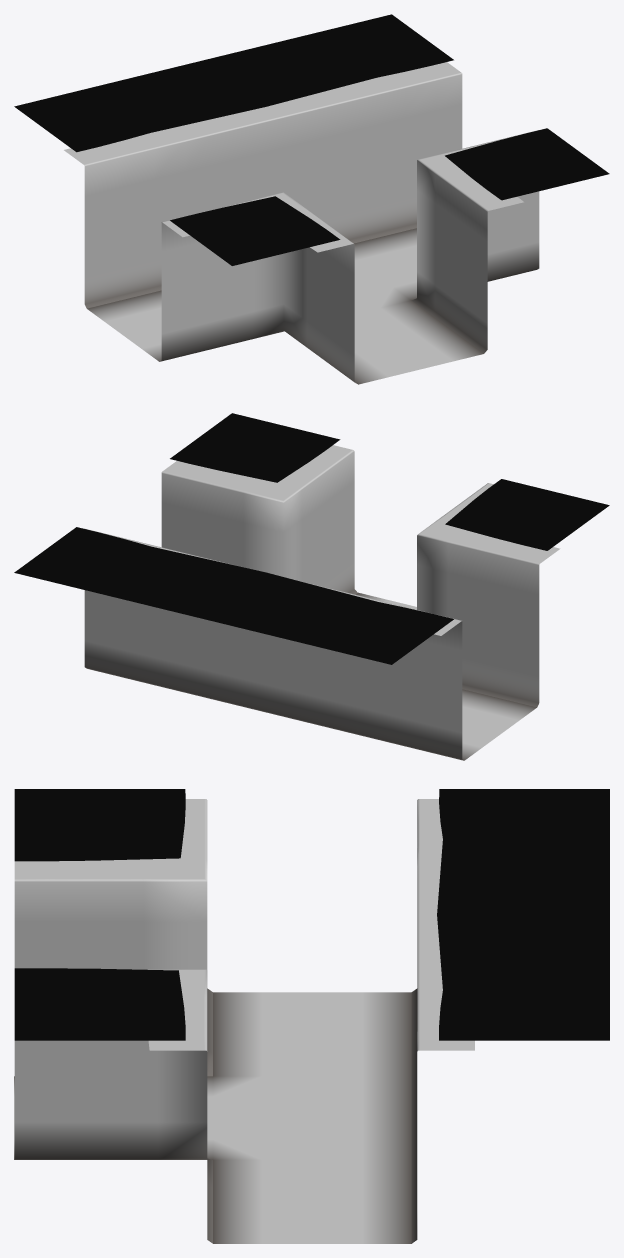
Rendered from blockE.fbx.
The picture shows the model from 3 angles, top to bottom: view 1: azimuth 30°, elevation 25°; view 2: azimuth 150°, elevation 25°; view 3: azimuth 270°, elevation 25°; orthographic projection. The views are drawn at different scales.
Visible parts, largest first — view 1: polySurface24, polySurface12, blockA13, blockA12, polySurface25, pPlane1 (×2); view 2: polySurface24, polySurface12, blockA12, blockA13, pPlane1 (×2), polySurface25; view 3: polySurface25, polySurface12, blockA12, pPlane1 (×2), blockA13, polySurface24.
Boxes of the visible parts, box(x1,y1,x2,y2) form: polySurface24: box(64, 62, 462, 308); polySurface12: box(14, 14, 453, 152); blockA13: box(160, 192, 356, 383); blockA12: box(411, 130, 539, 353); polySurface25: box(87, 228, 483, 384); pPlane1 (×2): box(170, 128, 609, 265); polySurface24: box(84, 528, 463, 760); polySurface12: box(14, 527, 453, 664); blockA12: box(161, 445, 357, 594); blockA13: box(417, 483, 560, 707); pPlane1 (×2): box(170, 413, 609, 550); polySurface25: box(87, 592, 536, 760); polySurface25: box(14, 992, 411, 1243); polySurface12: box(437, 789, 609, 1040); blockA12: box(14, 969, 212, 1243); pPlane1 (×2): box(14, 789, 185, 1040); blockA13: box(14, 799, 212, 1076); polySurface24: box(411, 799, 474, 1243).
Bounding box in the file's own units: 900 × 339 × 901.
